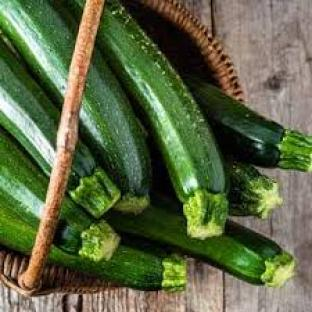Zucchini: (107, 199, 295, 287), (186, 77, 311, 170), (81, 52, 151, 210), (0, 39, 59, 176), (49, 246, 185, 291), (0, 129, 48, 228), (227, 160, 282, 219)
